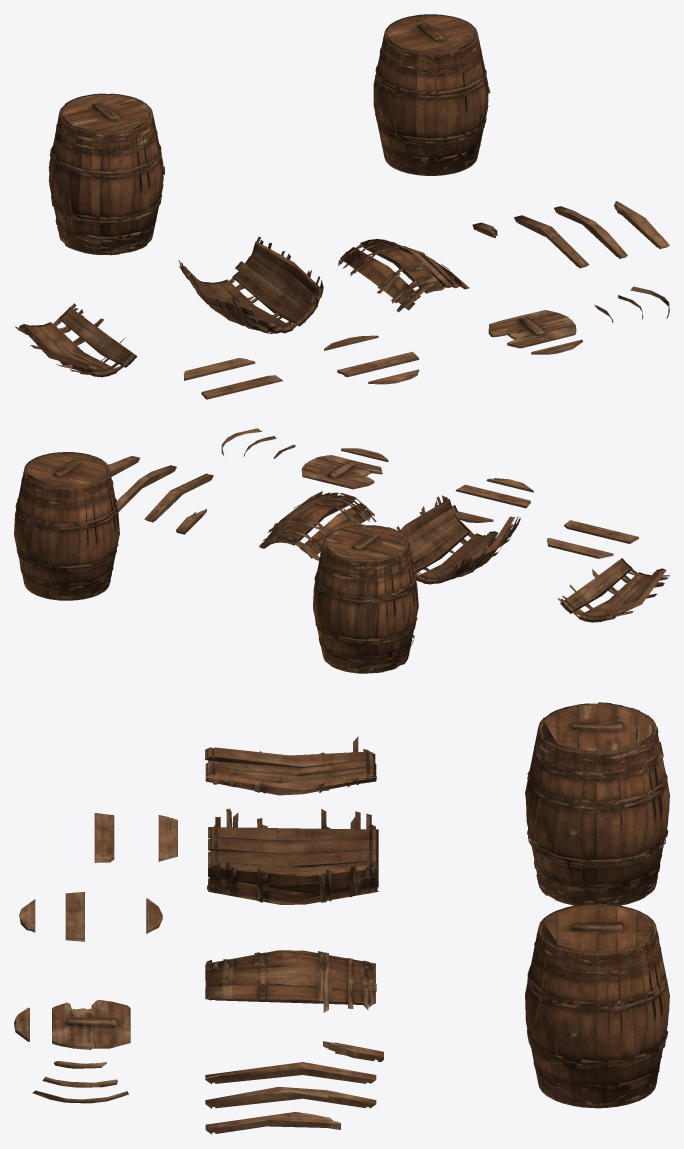
File: wooden_barrels_01.glb
The picture shows the model from 3 angles, top to bottom: view 1: azimuth 30°, elevation 25°; view 2: azimuth 150°, elevation 25°; view 3: azimuth 270°, elevation 25°; orthographic projection. The views are drawn at different scales.
Visible parts, largest first — view 1: wooden_barrels_01_barrel01, wooden_barrels_01_barrel02, wooden_barrels_01_piece01, wooden_barrels_01_piece03, wooden_barrels_01_piece02, wooden_barrels_01_piece08, wooden_barrels_01_piece04, wooden_barrels_01_piece05, wooden_barrels_01_piece06, wooden_barrels_01_piece11, wooden_barrels_01_piece14, wooden_barrels_01_piece13; view 2: wooden_barrels_01_barrel02, wooden_barrels_01_barrel01, wooden_barrels_01_piece01, wooden_barrels_01_piece03, wooden_barrels_01_piece02, wooden_barrels_01_piece08, wooden_barrels_01_piece04, wooden_barrels_01_piece14, wooden_barrels_01_piece05, wooden_barrels_01_piece11, wooden_barrels_01_piece13; view 3: wooden_barrels_01_barrel01, wooden_barrels_01_barrel02, wooden_barrels_01_piece01, wooden_barrels_01_piece03, wooden_barrels_01_piece02, wooden_barrels_01_piece08, wooden_barrels_01_piece05, wooden_barrels_01_piece04, wooden_barrels_01_piece06, wooden_barrels_01_piece14, wooden_barrels_01_piece11, wooden_barrels_01_piece13 (+1 smaller).
Part boxes in pixels (x1,y1,x2,y2): wooden_barrels_01_barrel01: (373,14,490,175); wooden_barrels_01_barrel02: (48,93,164,255); wooden_barrels_01_piece01: (178,236,323,333); wooden_barrels_01_piece03: (338,239,469,312); wooden_barrels_01_piece02: (15,303,137,377); wooden_barrels_01_piece08: (488,310,576,348); wooden_barrels_01_piece04: (514,215,589,268); wooden_barrels_01_piece05: (554,206,627,258); wooden_barrels_01_piece06: (614,201,669,249); wooden_barrels_01_piece11: (337,352,418,377); wooden_barrels_01_piece14: (201,375,282,399); wooden_barrels_01_piece13: (183,358,255,380); wooden_barrels_01_barrel02: (313,524,418,673); wooden_barrels_01_barrel01: (14,452,119,600); wooden_barrels_01_piece01: (396,495,520,584); wooden_barrels_01_piece03: (259,491,376,560); wooden_barrels_01_piece02: (557,558,669,622); wooden_barrels_01_piece08: (301,455,382,489); wooden_barrels_01_piece04: (144,473,213,522); wooden_barrels_01_piece14: (564,520,638,543); wooden_barrels_01_piece05: (117,465,176,512); wooden_barrels_01_piece11: (455,484,530,508); wooden_barrels_01_piece13: (547,538,613,558); wooden_barrels_01_barrel01: (525,903,669,1108); wooden_barrels_01_barrel02: (525,702,669,905); wooden_barrels_01_piece01: (207,808,378,904); wooden_barrels_01_piece03: (205,950,376,1012); wooden_barrels_01_piece02: (205,736,376,795); wooden_barrels_01_piece08: (52,1000,130,1049); wooden_barrels_01_piece05: (205,1086,376,1108); wooden_barrels_01_piece04: (205,1062,376,1084); wooden_barrels_01_piece06: (205,1112,340,1134); wooden_barrels_01_piece14: (94,813,114,862); wooden_barrels_01_piece11: (65,892,84,941); wooden_barrels_01_piece13: (158,815,177,861).
Size of the model in its own units: 4.43 by 0.9322 by 3.34.
Materials: 3 (3 with a texture image).
